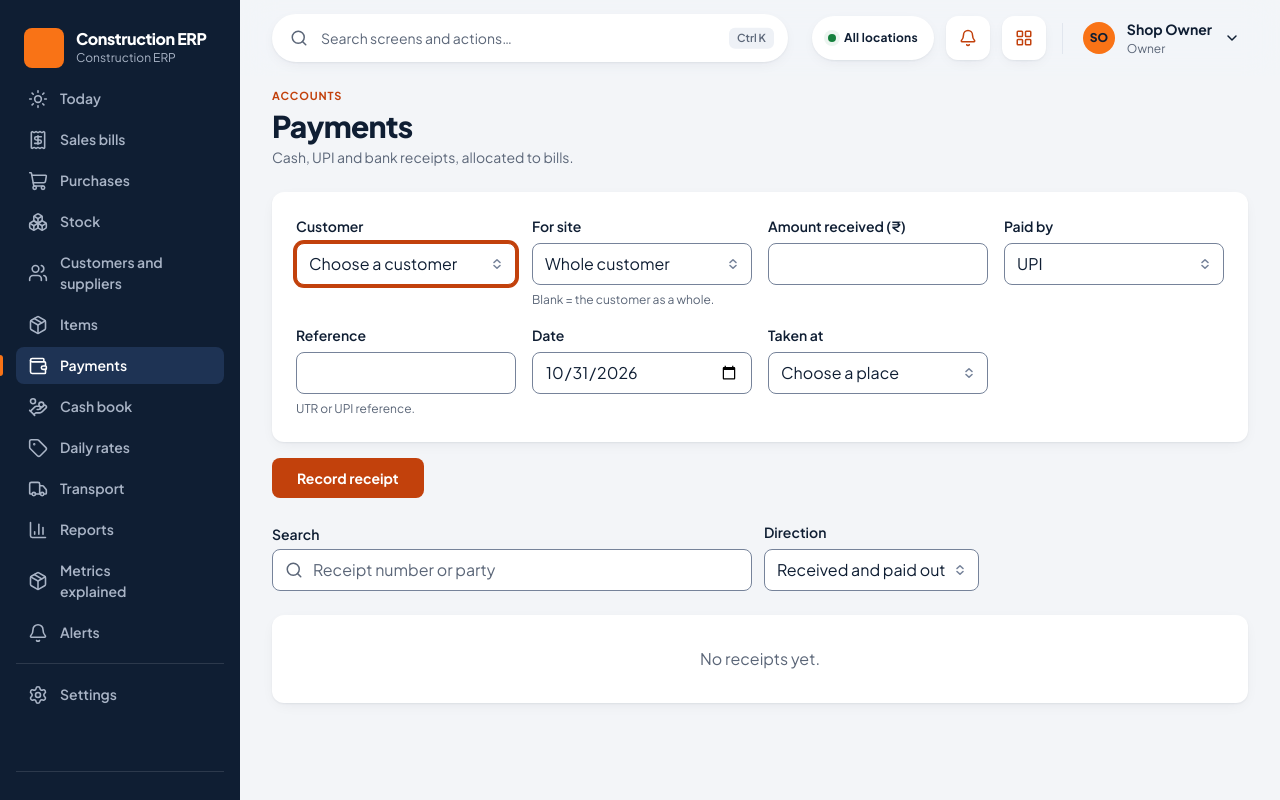
Test: Payments › shows the server's words when the cash limit is reached
Select "Ravi Builders" in the dropdown labelled "Customer": (406, 264) [296,243,516,285]
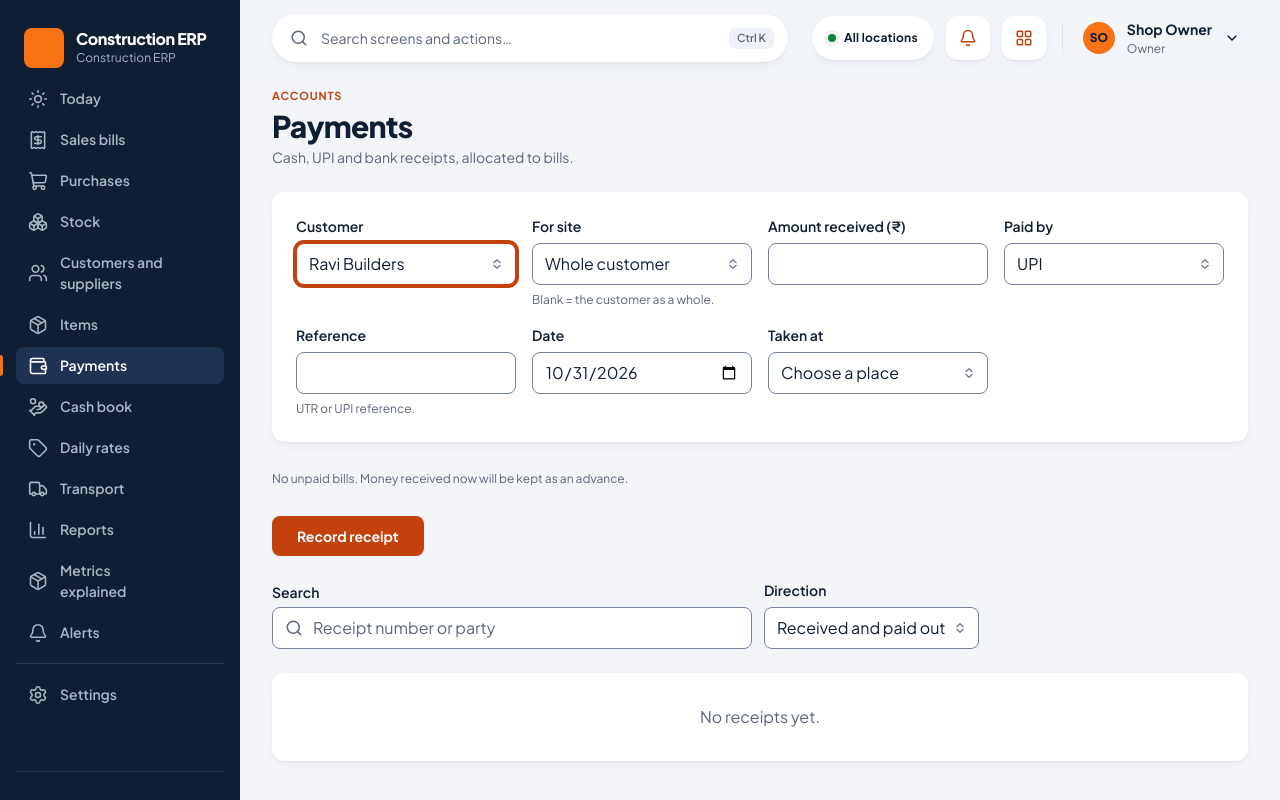
Select "S1 Shop 1" in the dropdown labelled "Taken at": (878, 373) [768,352,988,394]
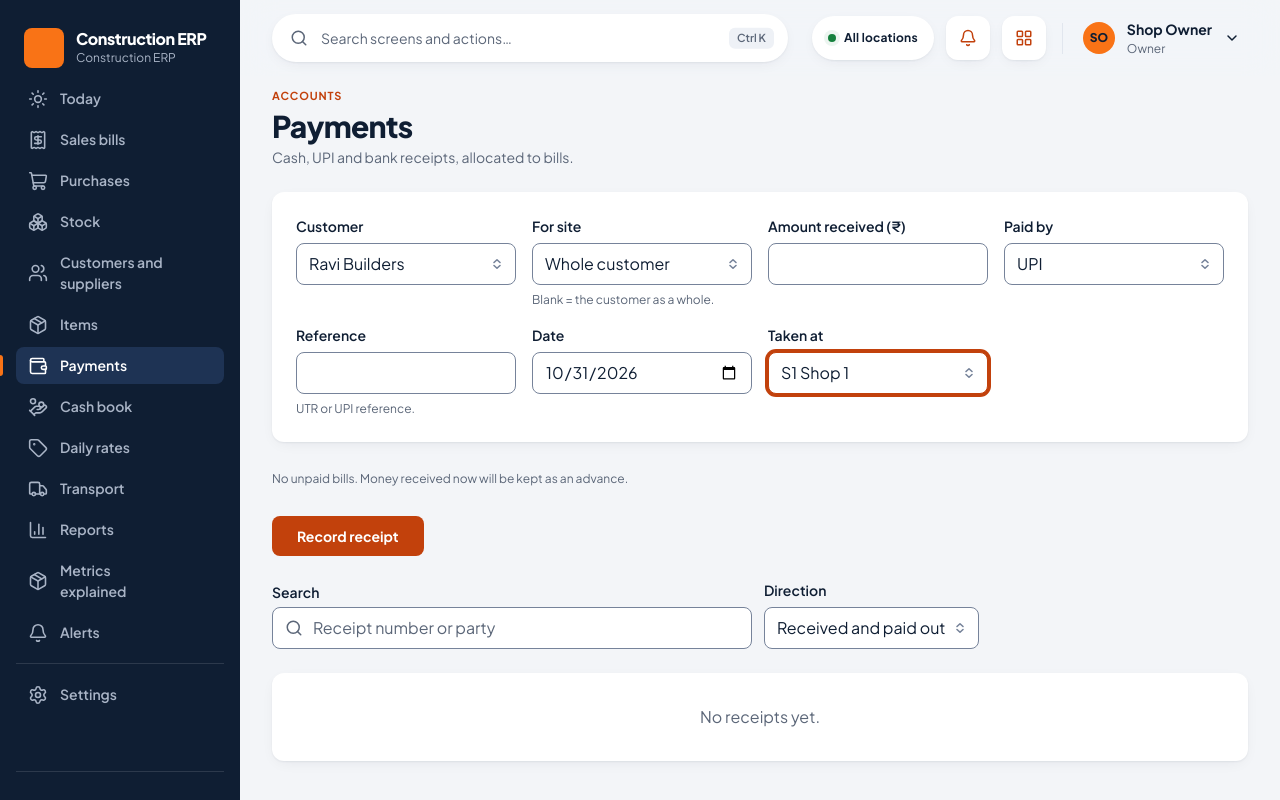
Select "Cash" in the dropdown labelled "Paid by": (1114, 264) [1004,243,1224,285]
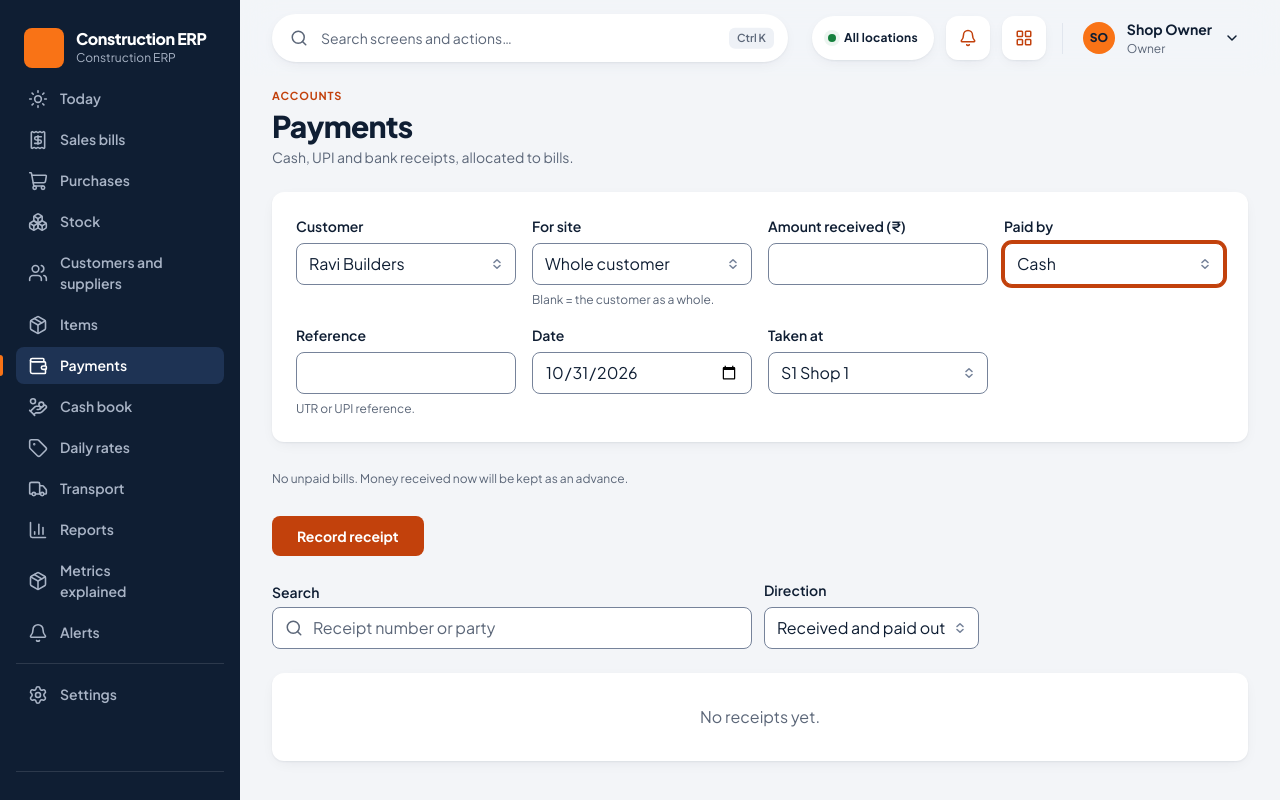
In the field labelled "Amount received (₹)": (878, 264) [768,243,988,285], type "250000"
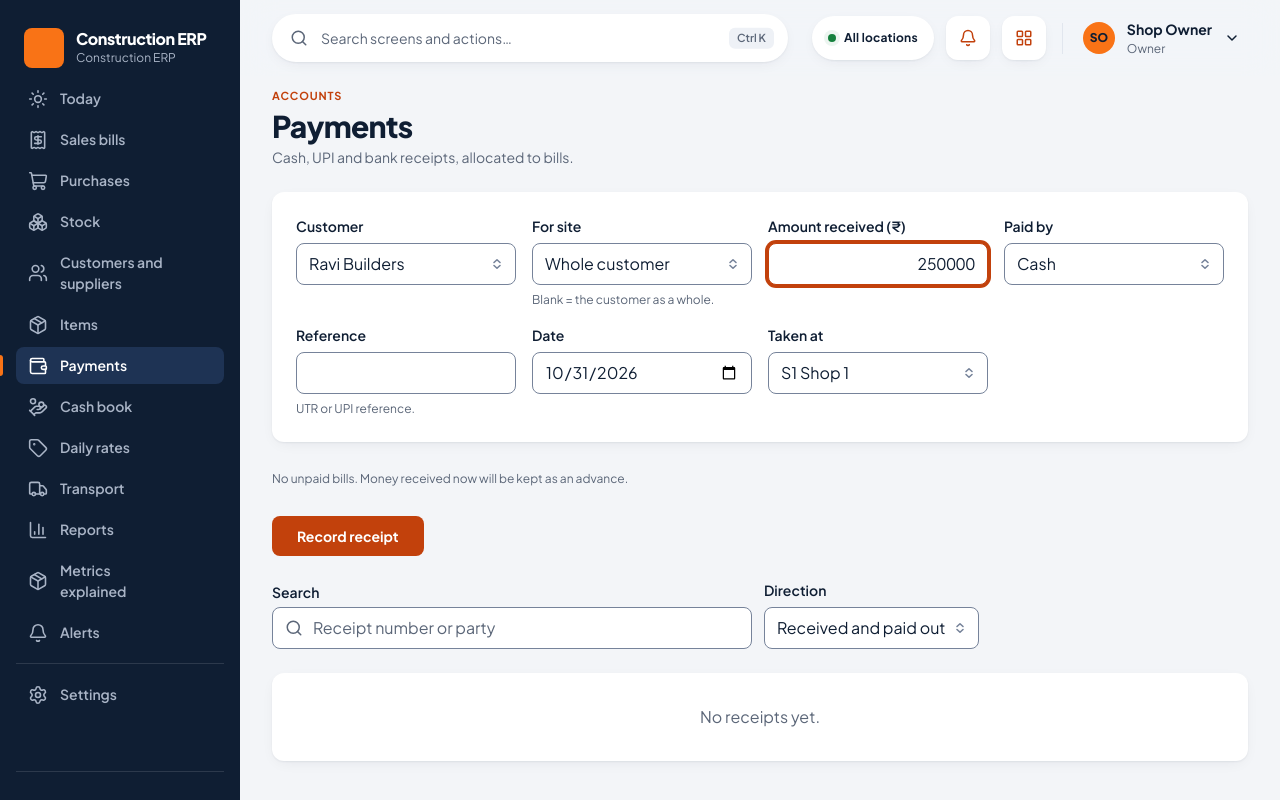
Click the button "Record receipt": (348, 536) [272,516,424,556]
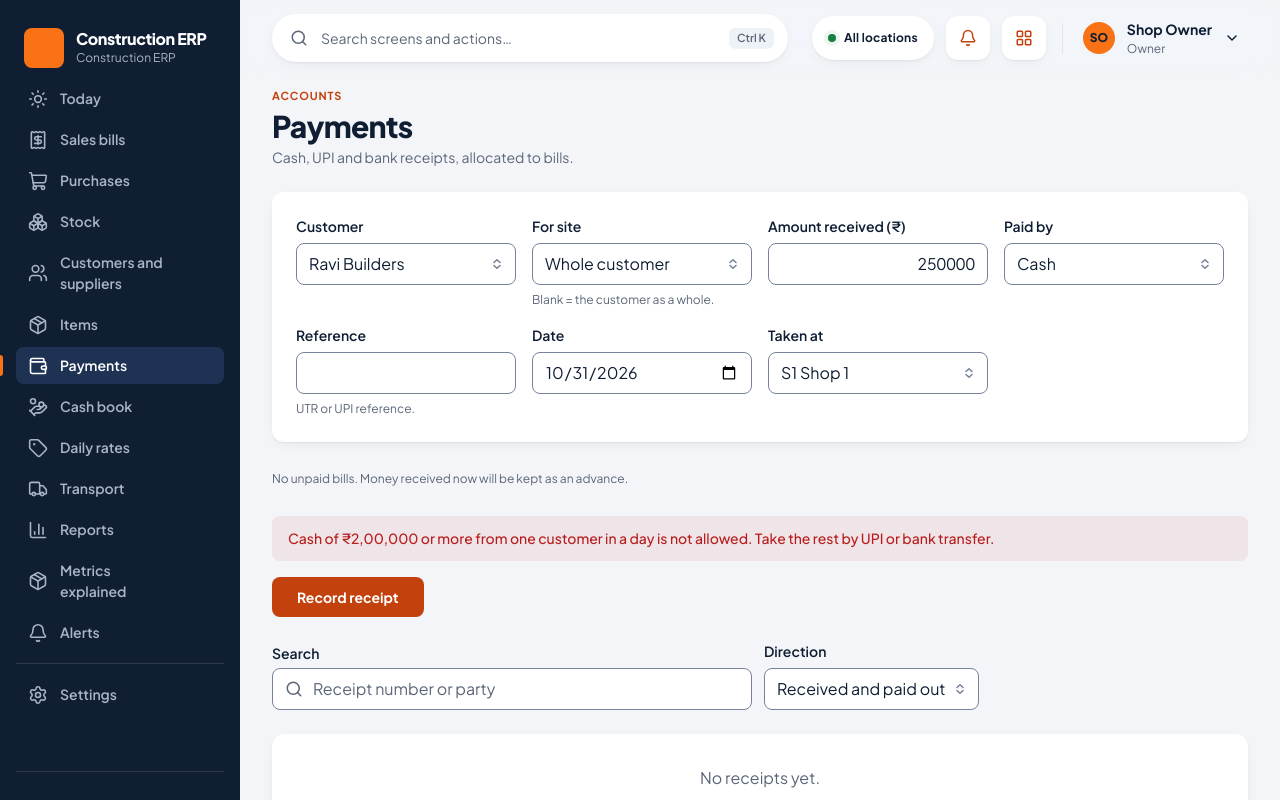
Expected: the text "kept as an advance" is shown, [272,471,628,486]
Expected: the text "Take the rest by UPI or bank transfer" is shown, [288,529,994,547]
